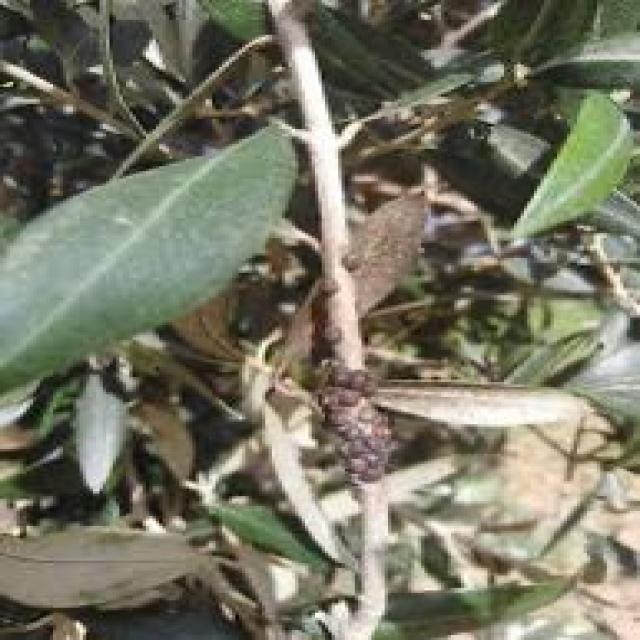BlackScale: (315, 359, 388, 486), (345, 253, 365, 275)
